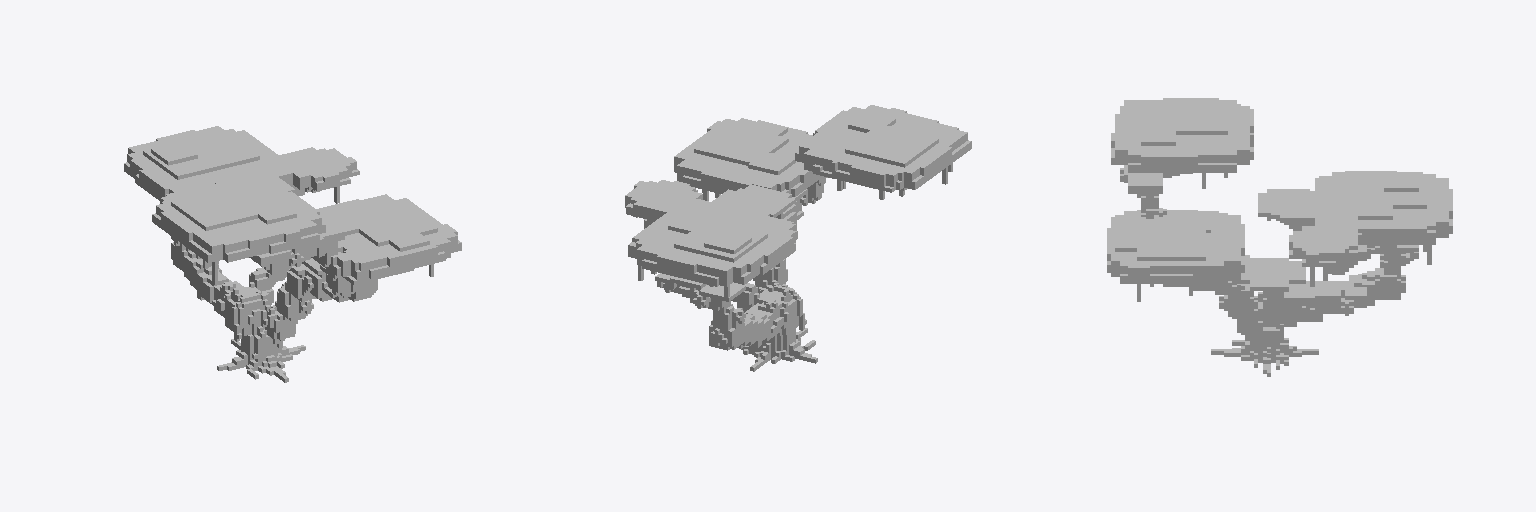
File: cherryBlossom1-0.obj
3 views of the same model, side by side, from view 1: azimuth 30°, elevation 25°; view 2: azimuth 150°, elevation 25°; view 3: azimuth 270°, elevation 25° (orthographic).
Visible parts, largest first — view 1: object 1; view 2: object 1; view 3: object 1.
Boxes of the visible parts, <box> form: object 1: <box>124,126,461,382</box>; object 1: <box>625,105,971,371</box>; object 1: <box>1107,98,1452,376</box>.
Bounding box in the file's own units: 6.7 × 5.1 × 8.